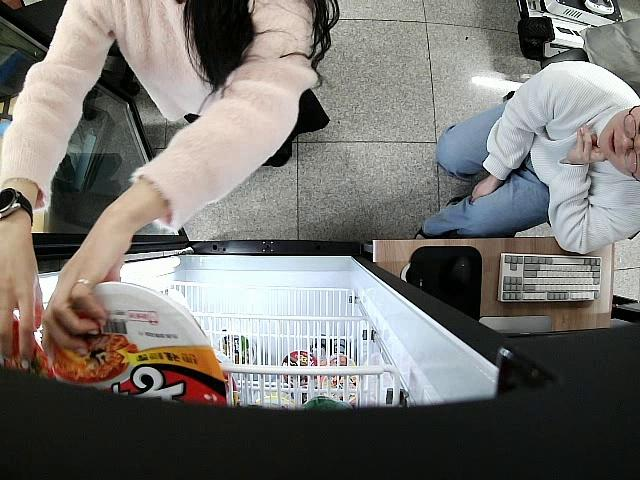00_hand: (45, 215, 135, 355), (0, 229, 43, 372)
10_wangTtukkeong: (35, 278, 229, 408)
